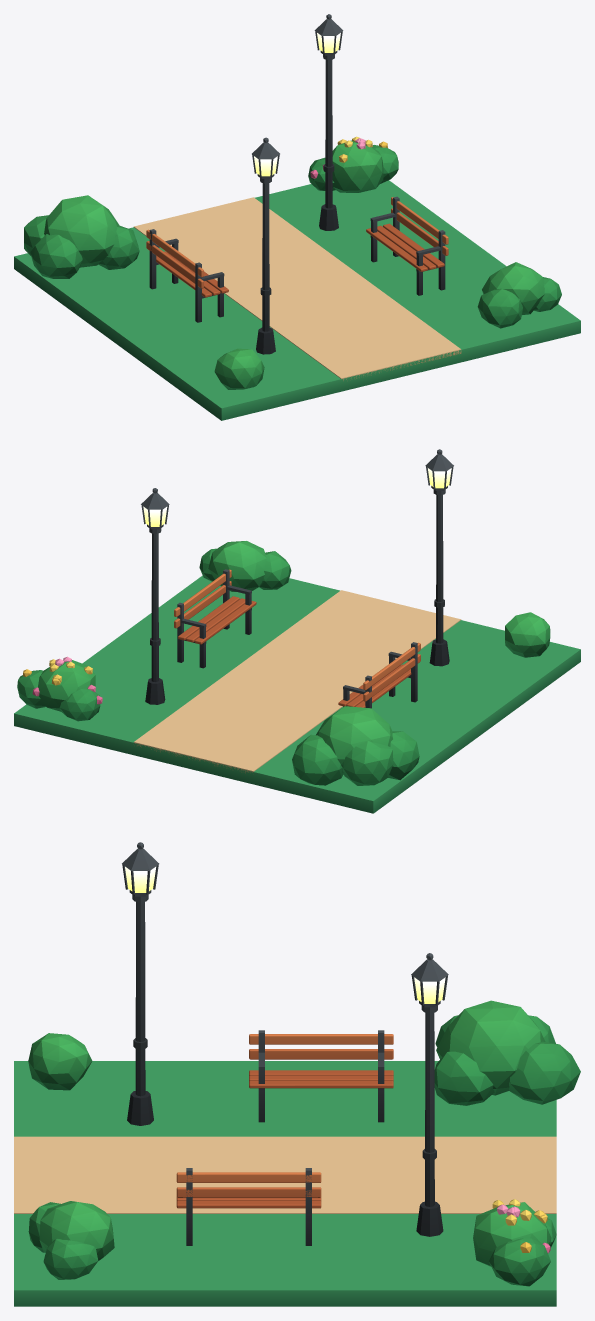
Rendered from camino_faroles.glb.
3 views of the same model, one above another, from view 1: azimuth 30°, elevation 25°; view 2: azimuth 150°, elevation 25°; view 3: azimuth 270°, elevation 25° (orthographic). The views are drawn at different scales.
Visible parts, largest first — view 1: camino_faroles; view 2: camino_faroles; view 3: camino_faroles.
Part boxes in pixels (bbox=[...]): camino_faroles: bbox=[14, 14, 580, 420]; camino_faroles: bbox=[14, 449, 580, 813]; camino_faroles: bbox=[14, 842, 580, 1306].
Bounding box in the file's own units: 6.29 × 3.6 × 6.27.
Materials: 1 (1 with a texture image).
